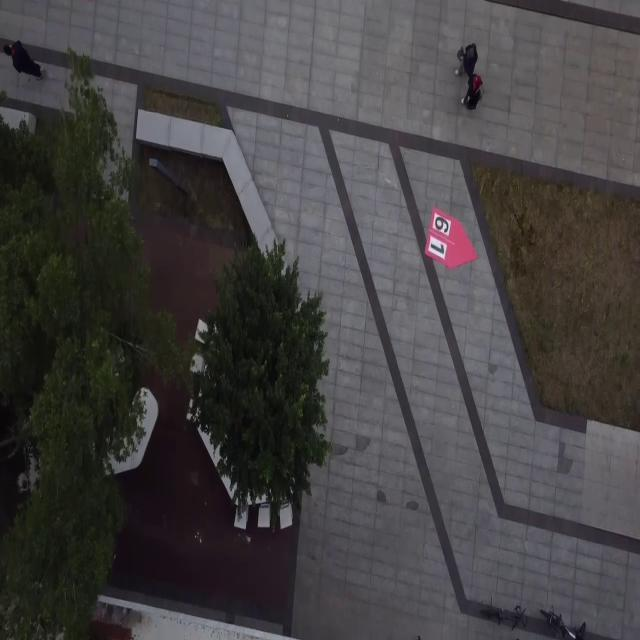-sign-: (424, 206, 478, 270)
